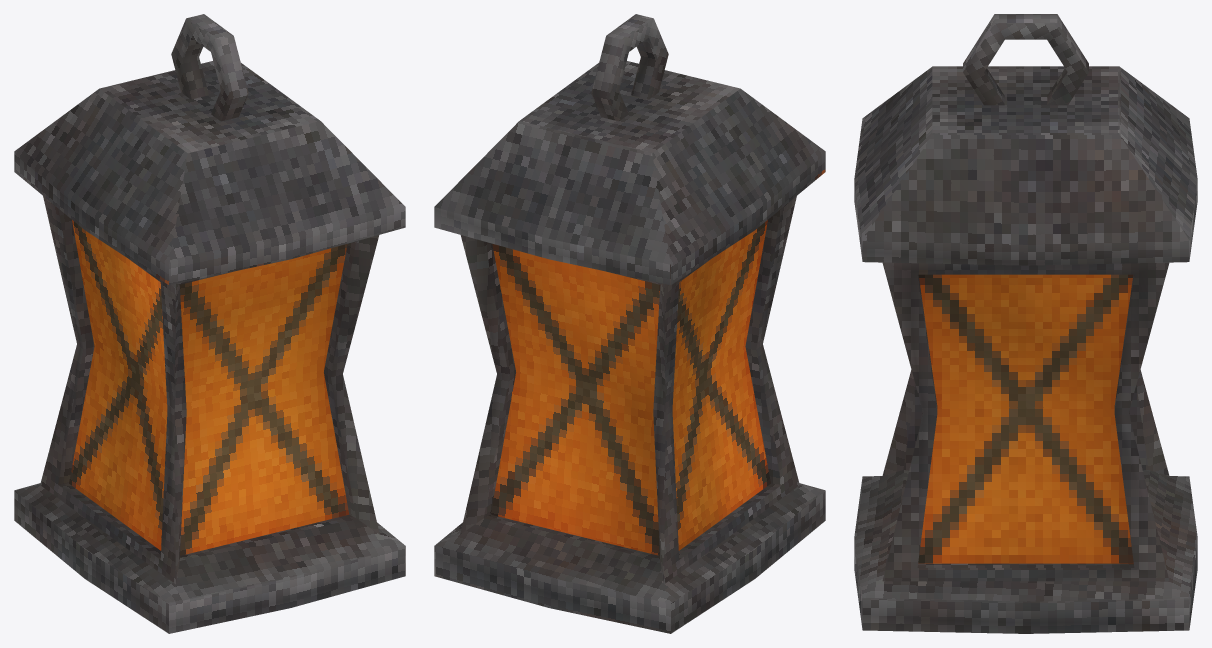
Rendered from Lamp.gltf.
3 renders of one model, left to right at view 1: azimuth 30°, elevation 25°; view 2: azimuth 150°, elevation 25°; view 3: azimuth 270°, elevation 25°, orthographic. The views are drawn at different scales.
Visible parts, largest first — view 1: Lamp; view 2: Lamp; view 3: Lamp.
Part boxes in pixels (x1,y1,x2,y2): Lamp: (14,14,405,633); Lamp: (434,14,825,633); Lamp: (854,14,1197,633).
Size of the model in its own units: 1.15 by 2.3 by 1.3.
Materials: 1 (1 with a texture image).
